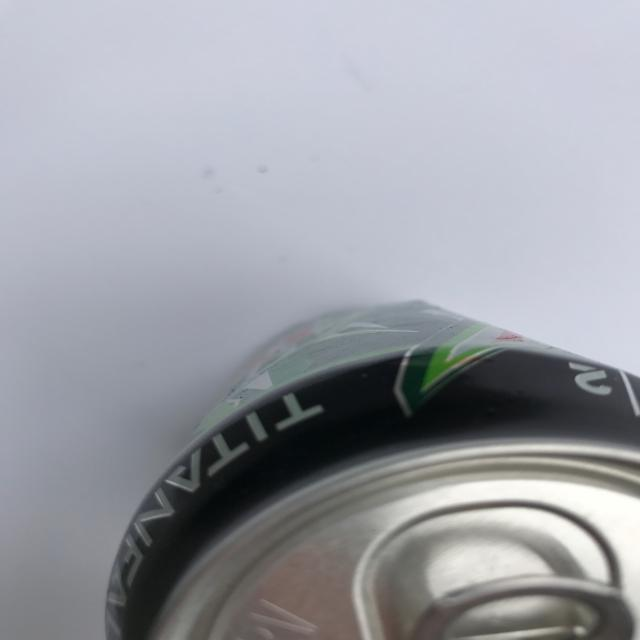metal: (103, 297, 639, 640)
